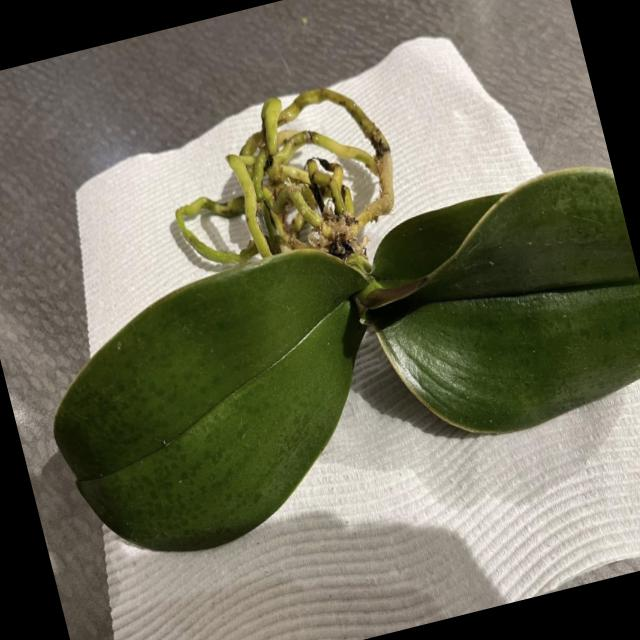leaf: (53, 250, 367, 551), (366, 167, 640, 433)
root: (175, 88, 393, 275)
